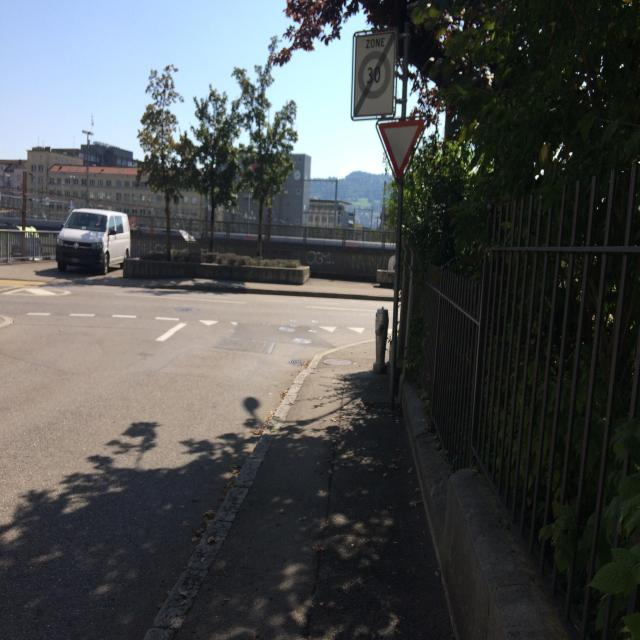Good: (321, 355, 354, 369)
